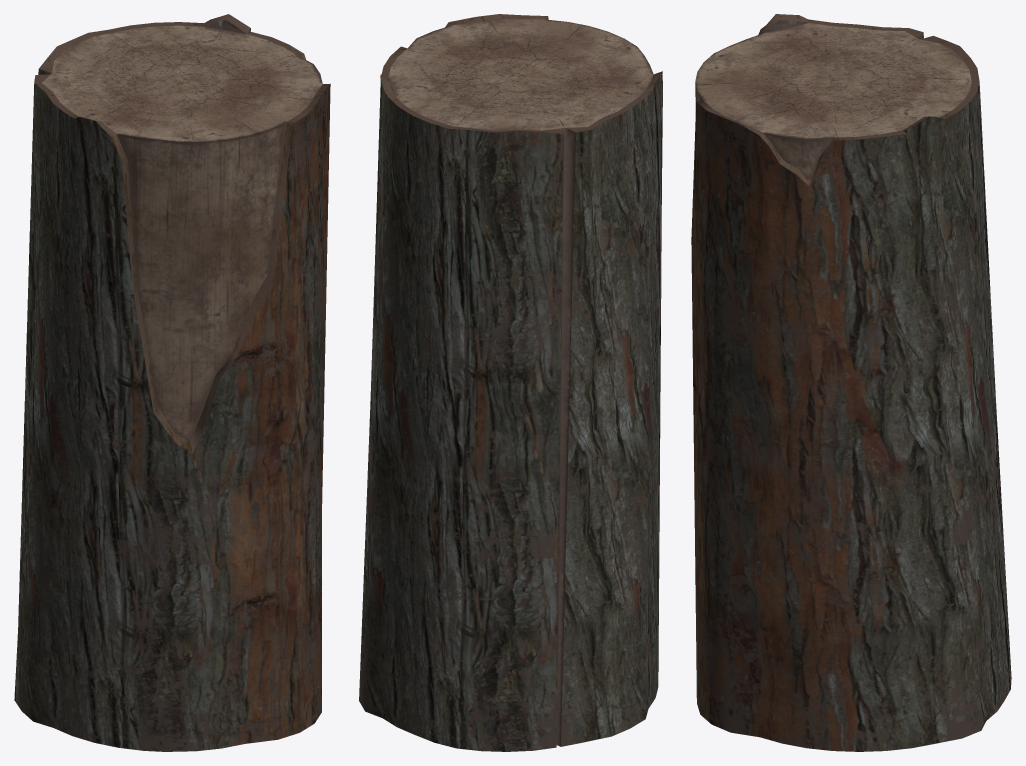
3 views of the same model, side by side, from view 1: azimuth 30°, elevation 25°; view 2: azimuth 150°, elevation 25°; view 3: azimuth 270°, elevation 25° (orthographic).
Visible parts, largest first — view 1: Cylinder001; view 2: Cylinder001; view 3: Cylinder001.
Boxes of the visible parts, left/top/right/bottom form: Cylinder001: left=14, top=14, right=330, bottom=751; Cylinder001: left=359, top=14, right=662, bottom=751; Cylinder001: left=691, top=14, right=1011, bottom=751.
Size of the model in its own units: 32.52 by 73.03 by 34.17.
1 material, 1 textured.
